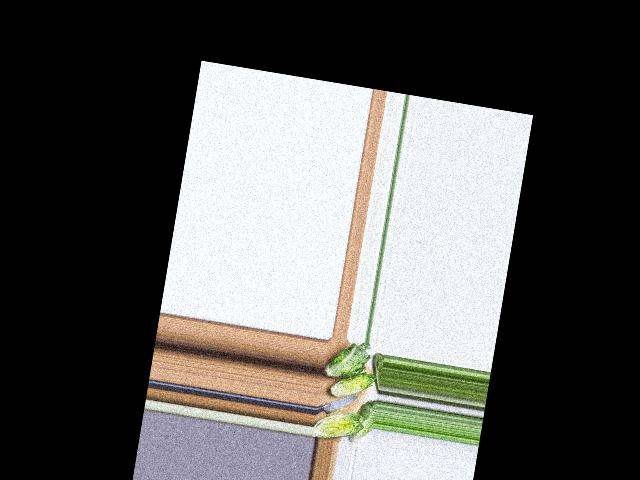lettuce: (349, 398, 375, 443)
